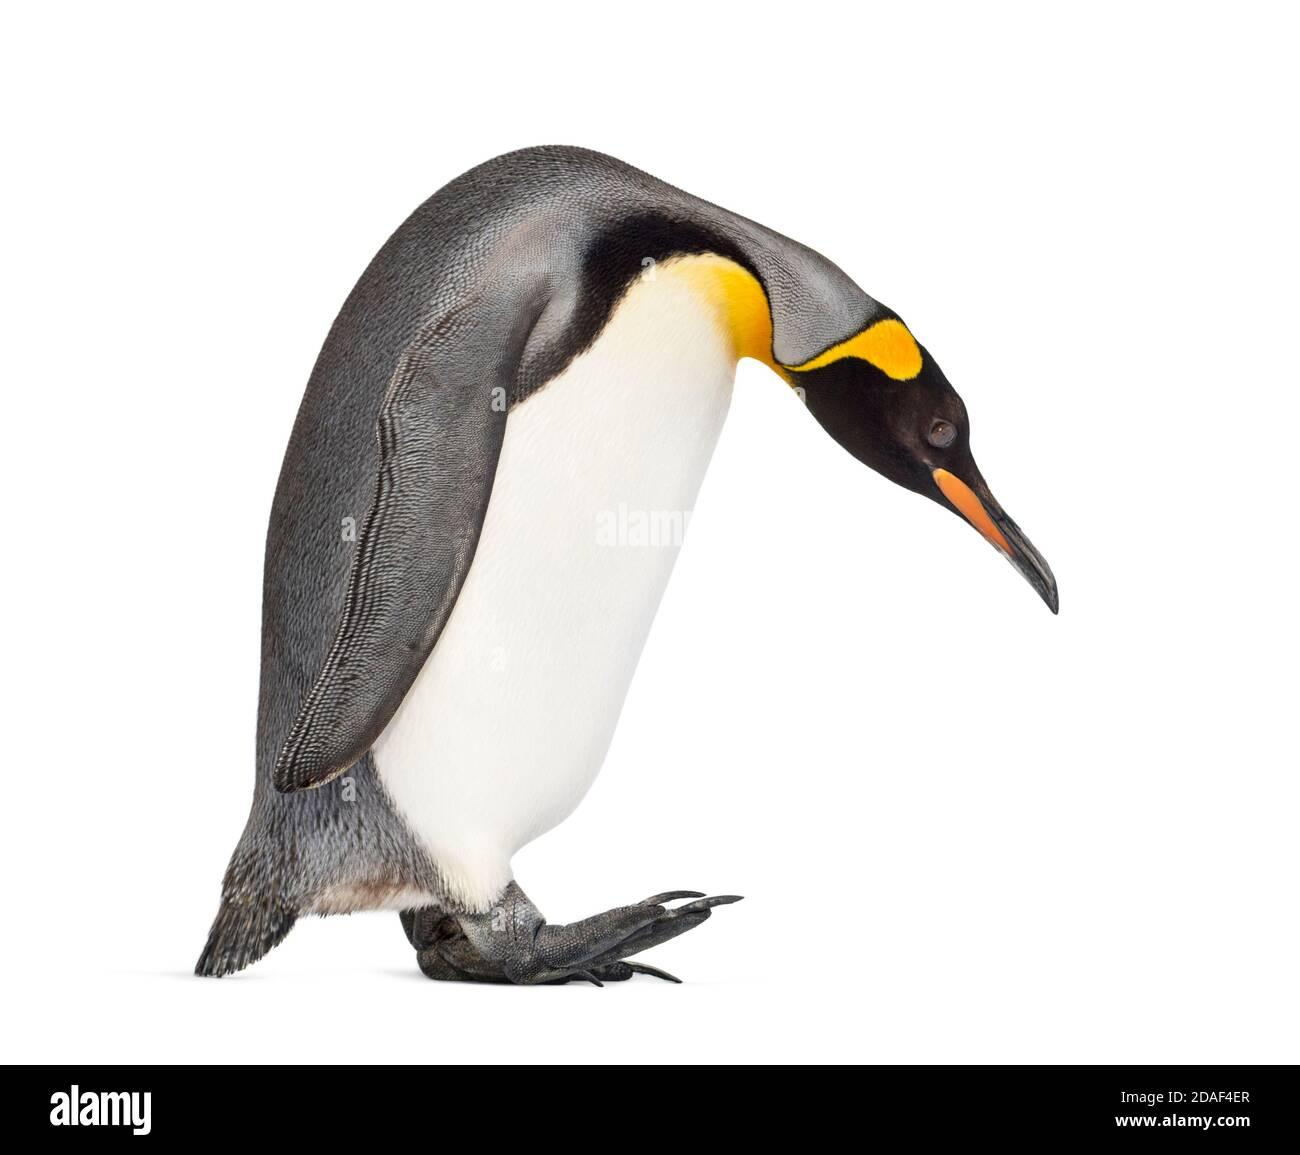king: (184, 127, 1075, 1027)
